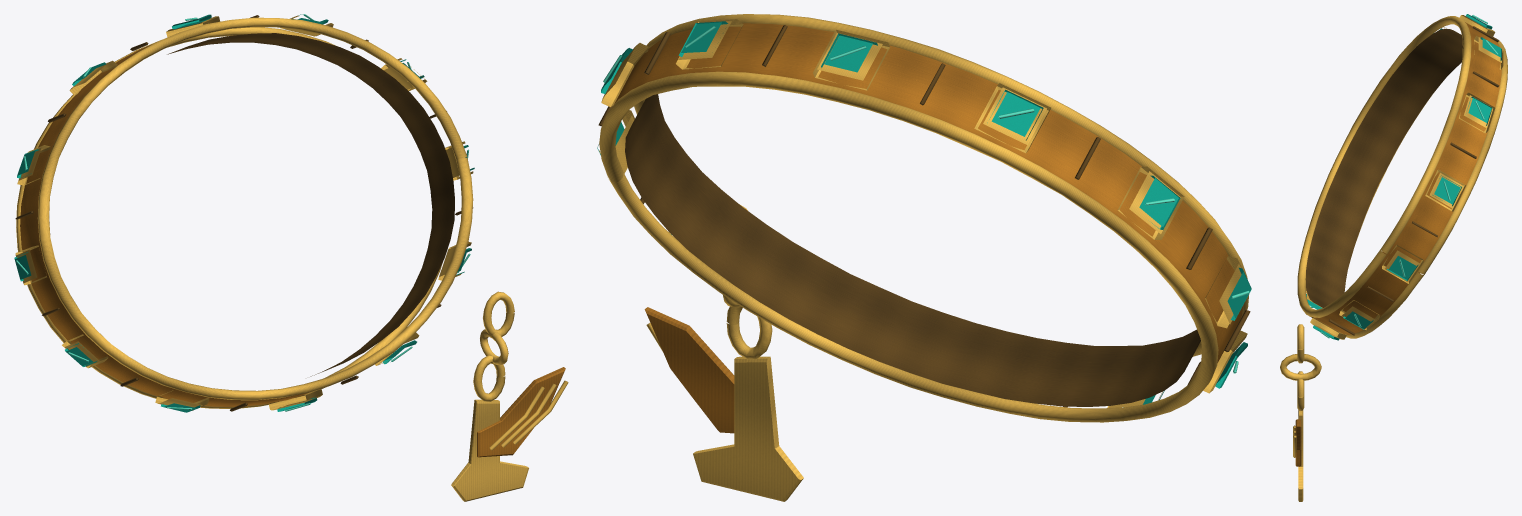
File: pegasus_anklet.glb
3 views of the same model, side by side, from view 1: azimuth 30°, elevation 25°; view 2: azimuth 150°, elevation 25°; view 3: azimuth 270°, elevation 25° (orthographic). The views are drawn at different scales.
Visible parts, largest first — view 1: Bright rolled anklet lip (×2), Visible dark gold inside band, Solid gold hollow anklet band, Pegasus charm central foot, Pegasus charm raised wing, Interlocked hanging anklet chain link (×2); view 2: Visible dark gold inside band, Bright rolled anklet lip (×2), Solid gold hollow anklet band, Pegasus charm central foot, Square teal anklet bezel (×6), Pegasus charm raised wing, Fitted teal enamel anklet tile (×4), Interlocked hanging anklet chain link; view 3: Visible dark gold inside band, Solid gold hollow anklet band, Bright rolled anklet lip (×2), Square teal anklet bezel (×5), Fitted teal enamel anklet tile (×3), Interlocked hanging anklet chain link (×2), Pegasus charm central foot, Pegasus charm raised wing.
Part boxes in pixels (<box>): Bright rolled anklet lip (×2): <box>16,17,473,408</box>; Visible dark gold inside band: <box>167,33,454,376</box>; Solid gold hollow anklet band: <box>20,44,310,406</box>; Pegasus charm central foot: <box>451,399,528,501</box>; Pegasus charm raised wing: <box>477,367,565,457</box>; Interlocked hanging anklet chain link (×2): <box>473,291,514,401</box>; Visible dark gold inside band: <box>625,94,1200,406</box>; Bright rolled anklet lip (×2): <box>599,14,1249,422</box>; Solid gold hollow anklet band: <box>614,23,1243,362</box>; Pegasus charm central foot: <box>693,356,803,501</box>; Square teal anklet bezel (×6): <box>601,19,1241,328</box>; Pegasus charm raised wing: <box>644,307,734,433</box>; Fitted teal enamel anklet tile (×4): <box>678,21,1180,229</box>; Interlocked hanging anklet chain link: <box>726,306,772,359</box>; Visible dark gold inside band: <box>1305,28,1462,307</box>; Solid gold hollow anklet band: <box>1313,22,1501,334</box>; Bright rolled anklet lip (×2): <box>1297,16,1507,338</box>; Square teal anklet bezel (×5): <box>1310,92,1495,339</box>; Fitted teal enamel anklet tile (×3): <box>1387,96,1492,280</box>; Interlocked hanging anklet chain link (×2): <box>1280,324,1321,380</box>; Pegasus charm central foot: <box>1298,410,1303,501</box>; Pegasus charm raised wing: <box>1295,419,1301,466</box>.
Size of the model in its own units: 61.74 by 54.19 by 30.18.
Materials: 5 (5 with a texture image).
